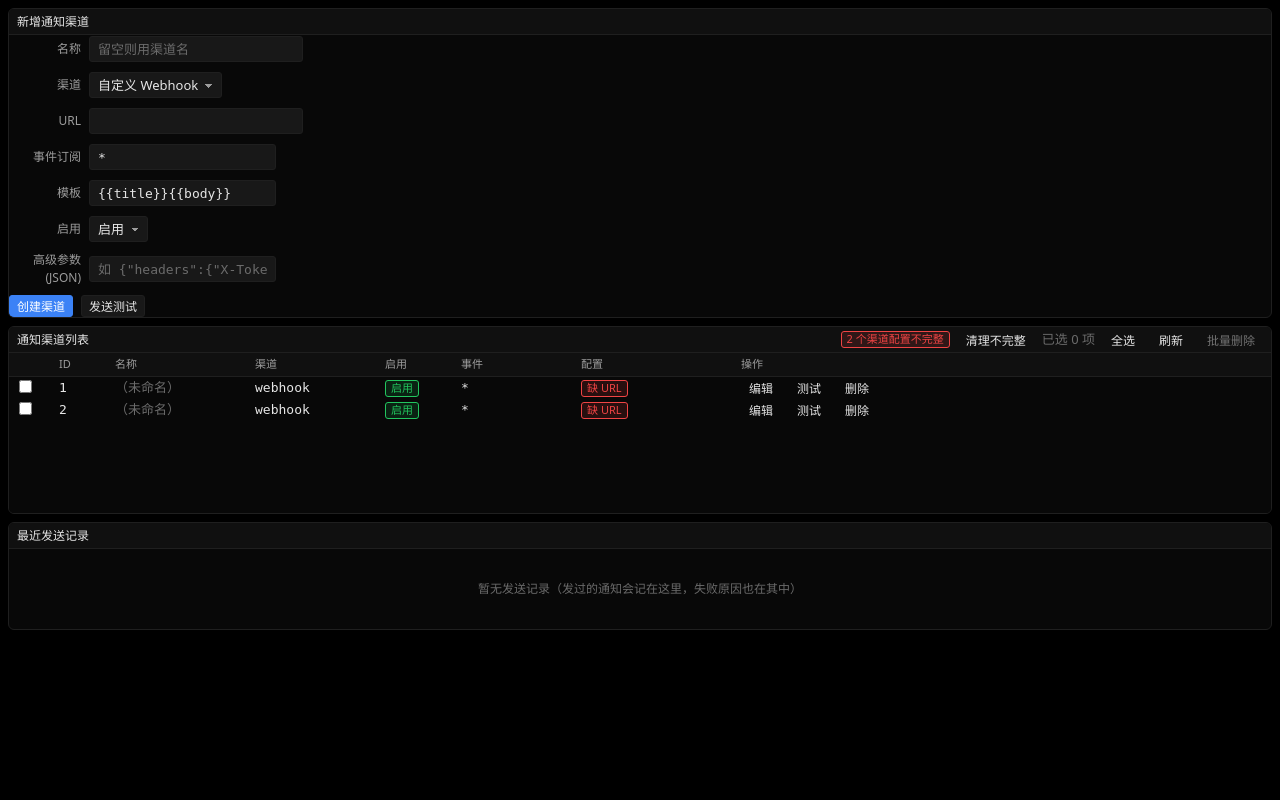
Test case: 通知渠道页 · 清理不完整渠道 › 提供一键清理，且只在确实有残缺渠道时出现
This screenshot has width=1280, height=800.
Expected: the text "2 个渠道配置不完整" is shown, [841, 331, 950, 348]
Click the button "清理不完整".
click(996, 340)  # box [958, 328, 1034, 350]
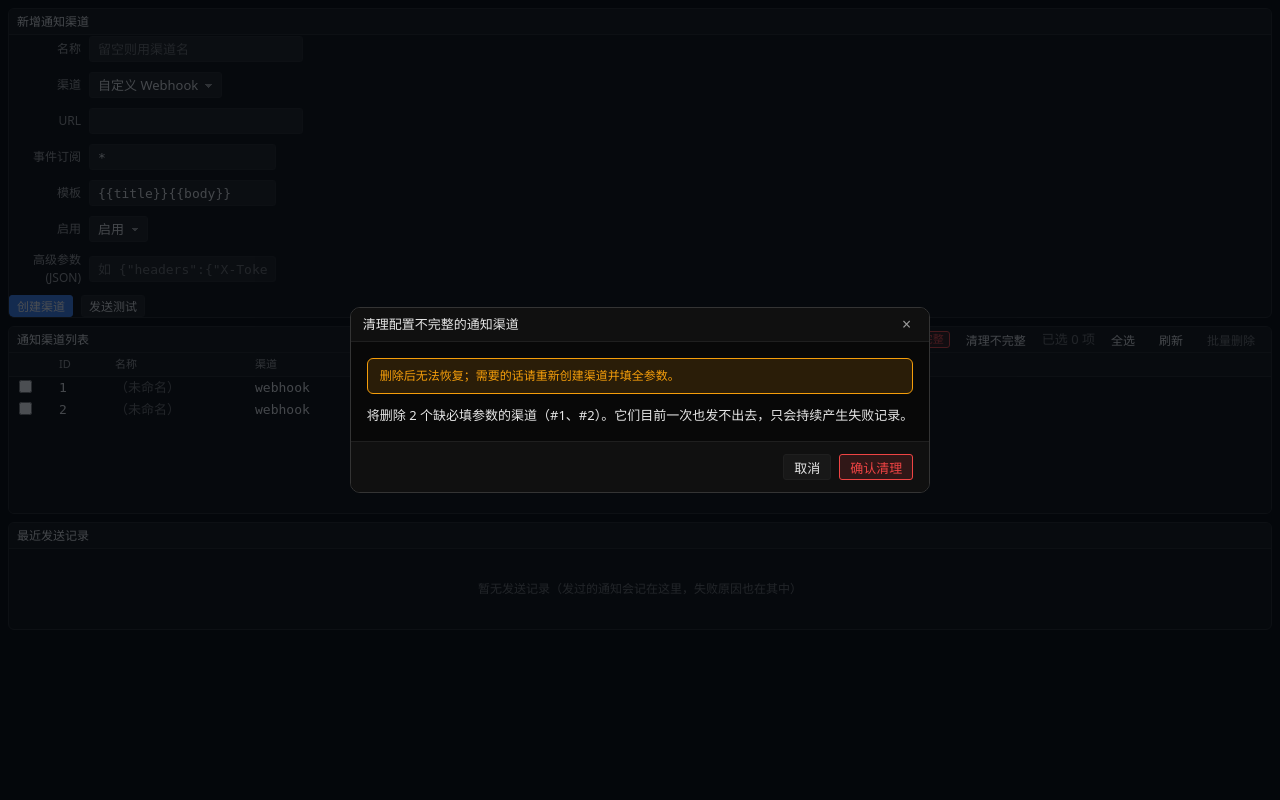
Result: the button "确认清理" is shown
Click the button "确认清理".
click(876, 467)  # box [839, 454, 913, 480]
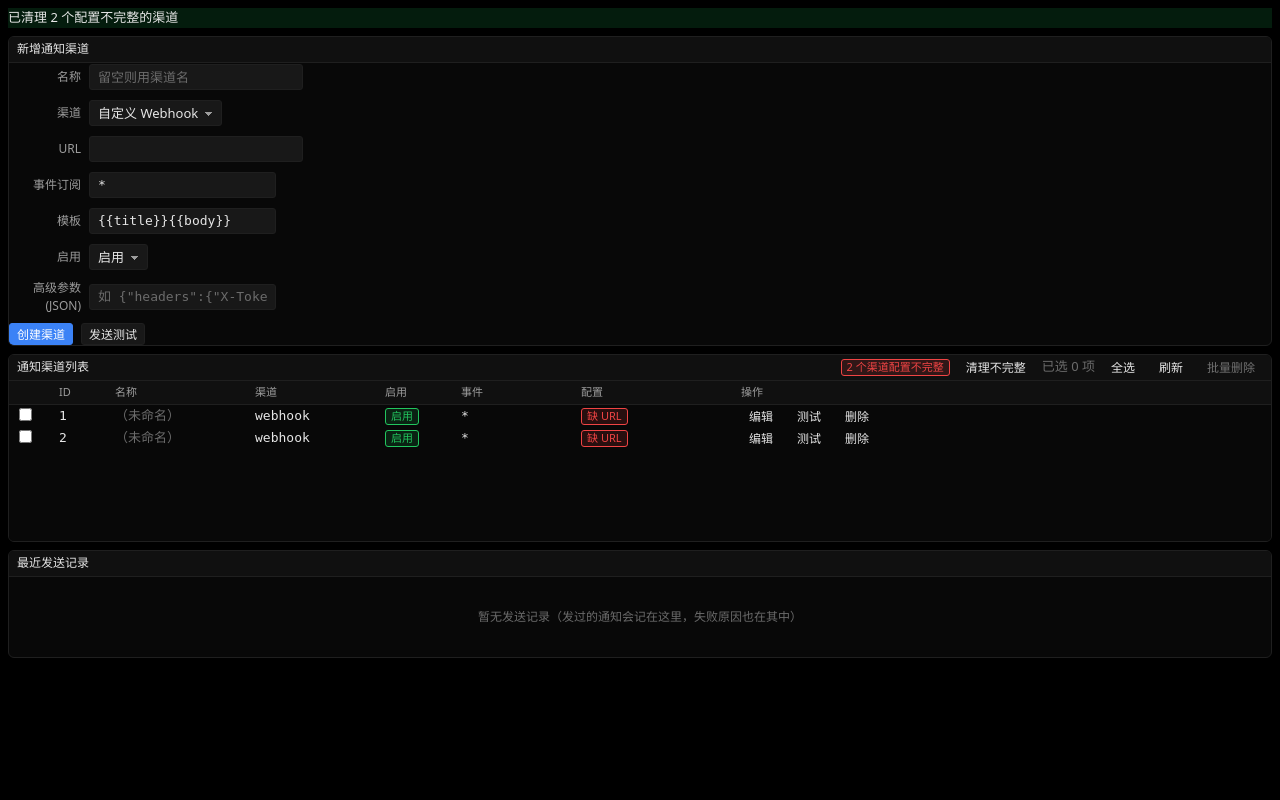
Result: the text "已清理 2 个配置不完整的渠道" is shown at [8, 8, 1272, 28]
